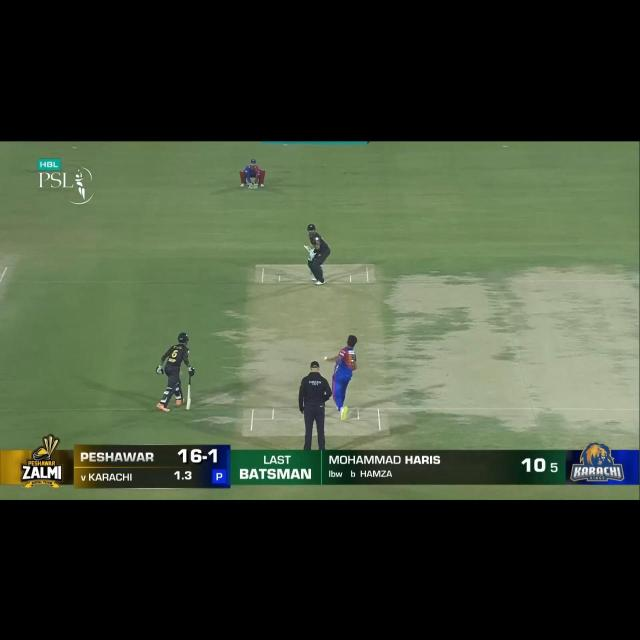bat: (184, 384, 194, 409), (302, 245, 314, 254)
toe: (184, 402, 194, 411), (301, 245, 309, 249)
